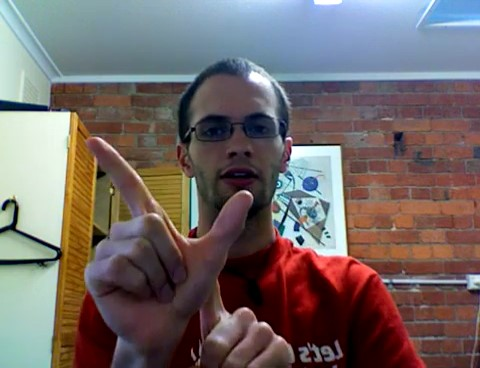Y: (68, 125, 318, 364)
